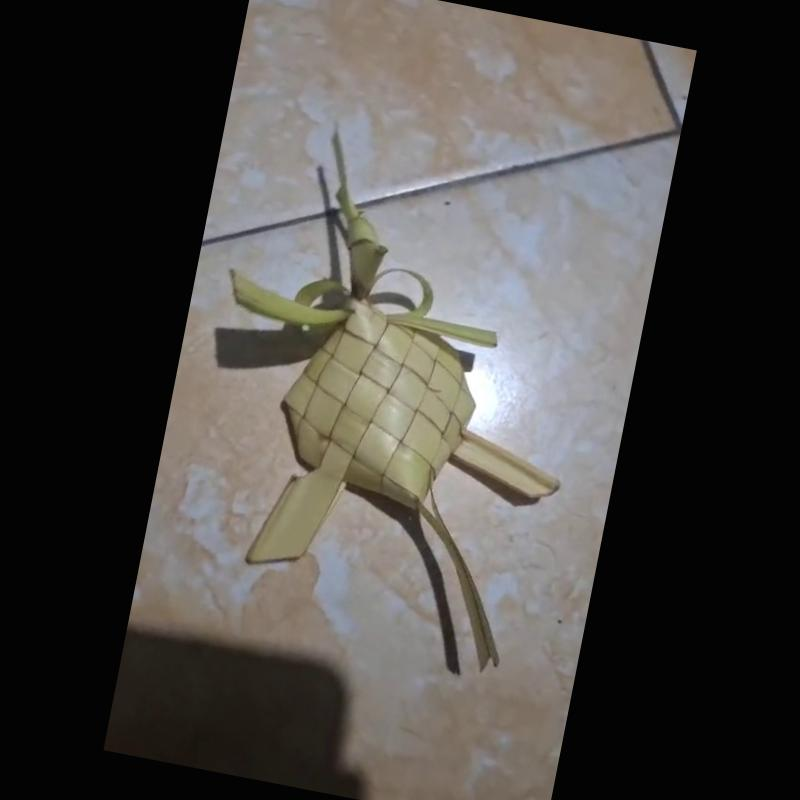Tipat Dampulan: (230, 108, 570, 685)
